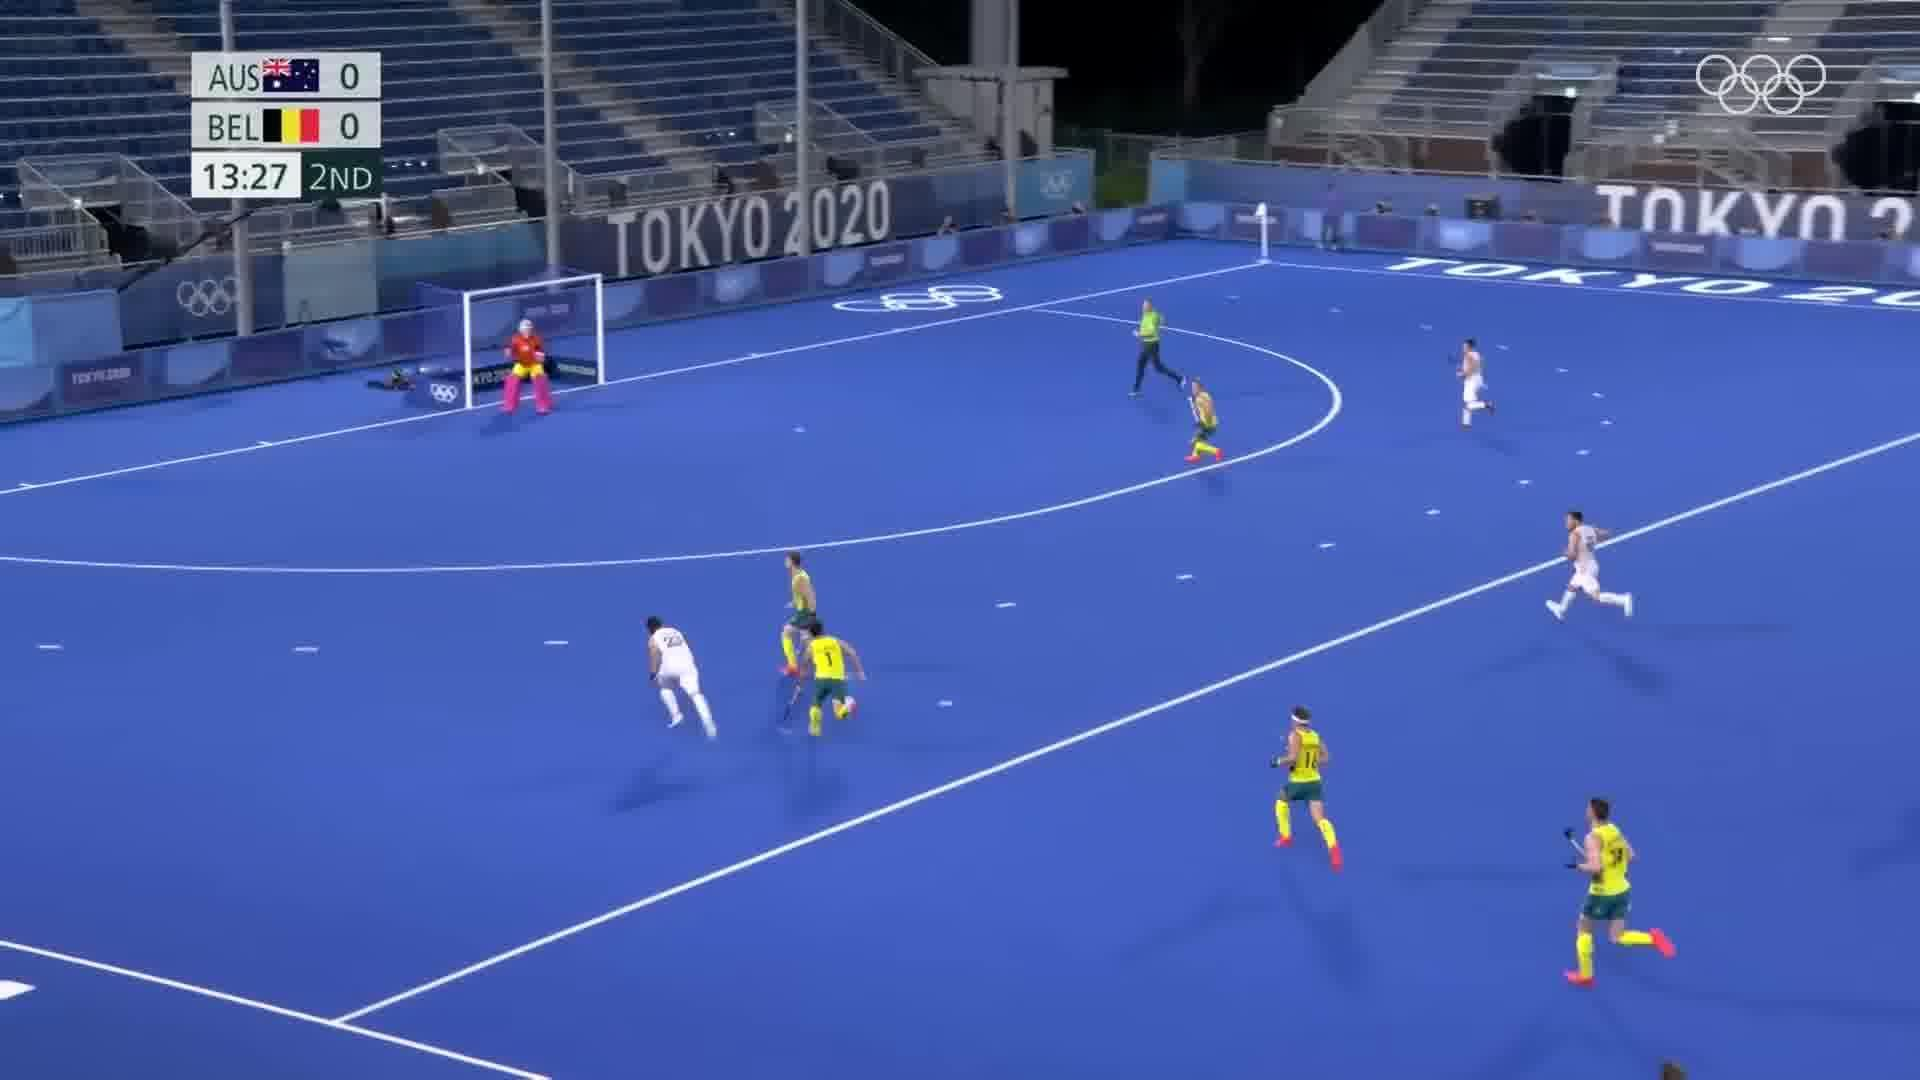ball: (926, 694, 957, 712)
